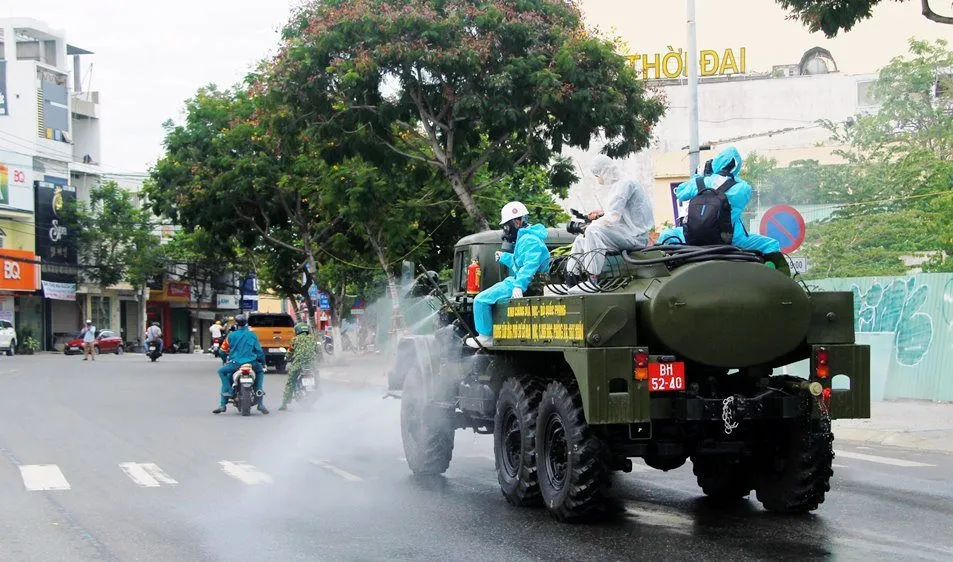plate: (643, 361, 689, 395)
